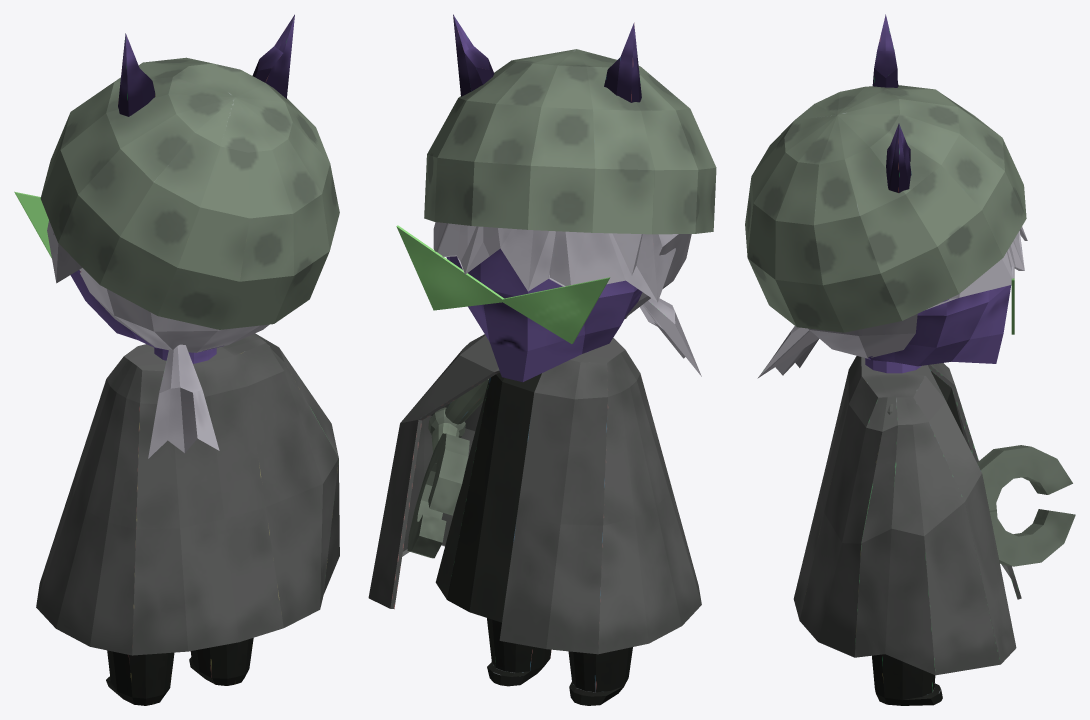
Rendered from RVsquatter.fbx.
The picture shows the model from 3 angles, left to right: view 1: azimuth 30°, elevation 25°; view 2: azimuth 150°, elevation 25°; view 3: azimuth 270°, elevation 25°; orthographic projection. The views are drawn at different scales.
Visible parts, largest first — view 1: Cloak, Collander, Ponytail, Hairback, Leg_Left, Leg_Right, Horn_Left, Horn_Right, Head, Glasses, bangs; view 2: Cloak, Collander, Torso, bangs, Head, Glasses, Leg_Left, Hand_Bottom, Leg_Right, Hand_Top, Horn_Right, Horn_Left (+3 smaller); view 3: Collander, Cloak, Head, Hand_Bottom, Hand_Top, Leg_Right, Hairback, bangs, Ponytail, Horn_Right, Horn_Left, neck.
Part boxes in pixels (x1=…): Cloak: x1=36, y1=333, x2=339, y2=655; Collander: x1=40, y1=57, x2=339, y2=329; Ponytail: x1=148, y1=344, x2=219, y2=458; Hairback: x1=79, y1=268, x2=268, y2=352; Leg_Left: x1=106, y1=650, x2=174, y2=705; Leg_Right: x1=189, y1=638, x2=253, y2=685; Horn_Left: x1=118, y1=33, x2=155, y2=116; Horn_Right: x1=252, y1=14, x2=294, y2=98; Head: x1=70, y1=270, x2=223, y2=351; Glasses: x1=14, y1=191, x2=51, y2=258; bangs: x1=47, y1=220, x2=82, y2=283; Cloak: x1=368, y1=334, x2=701, y2=654; Collander: x1=424, y1=49, x2=716, y2=234; Torso: x1=435, y1=373, x2=541, y2=622; bangs: x1=433, y1=222, x2=675, y2=302; Head: x1=446, y1=248, x2=642, y2=382; Glasses: x1=396, y1=225, x2=610, y2=343; Leg_Left: x1=568, y1=647, x2=632, y2=705; Hand_Bottom: x1=428, y1=433, x2=469, y2=515; Leg_Right: x1=487, y1=618, x2=551, y2=686; Hand_Top: x1=407, y1=463, x2=446, y2=558; Horn_Right: x1=453, y1=14, x2=494, y2=96; Horn_Left: x1=604, y1=22, x2=641, y2=102; Collander: x1=745, y1=85, x2=1026, y2=332; Cloak: x1=793, y1=356, x2=1021, y2=675; Head: x1=865, y1=285, x2=1011, y2=366; Hand_Bottom: x1=977, y1=445, x2=1072, y2=511; Hand_Top: x1=989, y1=509, x2=1075, y2=566; Leg_Right: x1=872, y1=654, x2=942, y2=705; Hairback: x1=808, y1=314, x2=917, y2=358; bangs: x1=926, y1=226, x2=1027, y2=309; Ponytail: x1=757, y1=326, x2=819, y2=378; Horn_Right: x1=886, y1=123, x2=911, y2=192; Horn_Left: x1=872, y1=14, x2=898, y2=87; neck: x1=865, y1=358, x2=921, y2=373.
Bounding box in the file's own units: 34.36 × 74.84 × 35.31.
Materials: 1 (1 with a texture image).
